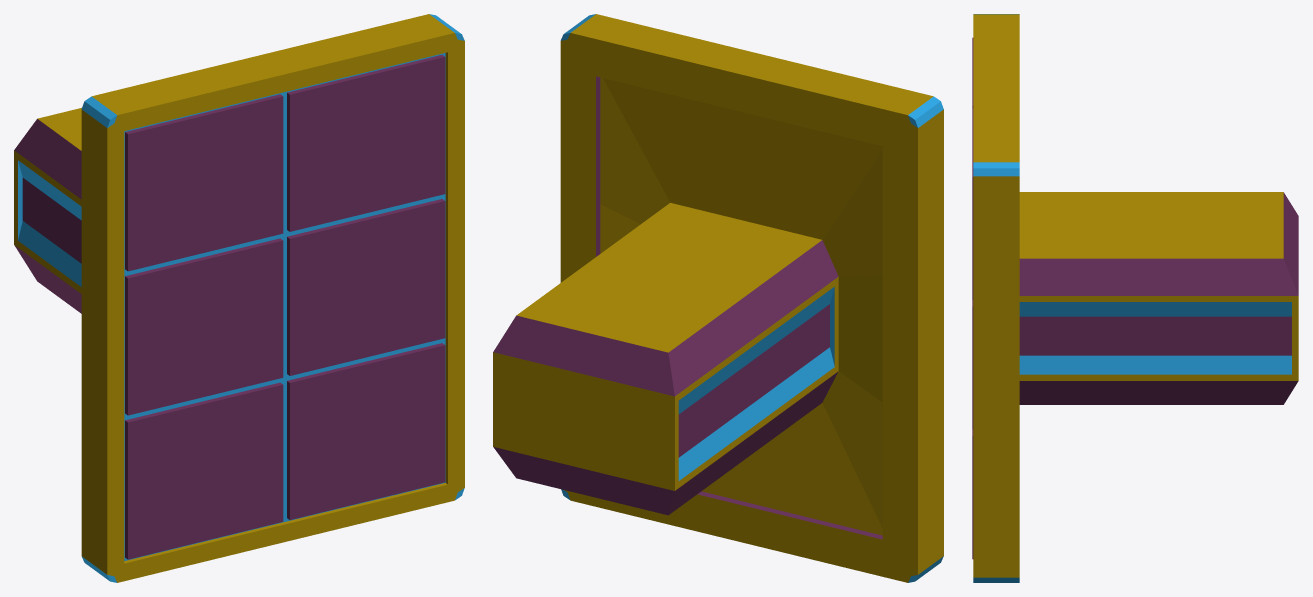
Rendered from Push Trap.fbx.
3 views of the same model, side by side, from view 1: azimuth 30°, elevation 25°; view 2: azimuth 150°, elevation 25°; view 3: azimuth 270°, elevation 25° (orthographic). The views are drawn at different scales.
Parts seen in each view (by area): view 1: Push Trap; view 2: Push Trap; view 3: Push Trap.
Part boxes in pixels (x1=…): Push Trap: x1=14, y1=14, x2=464, y2=582; Push Trap: x1=493, y1=14, x2=943, y2=582; Push Trap: x1=972, y1=14, x2=1298, y2=582.
Bounding box in the file's own units: 200 × 250 × 176.
